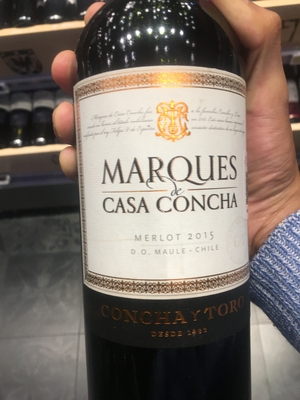marques de casa concha merlot: (73, 16, 271, 382)
